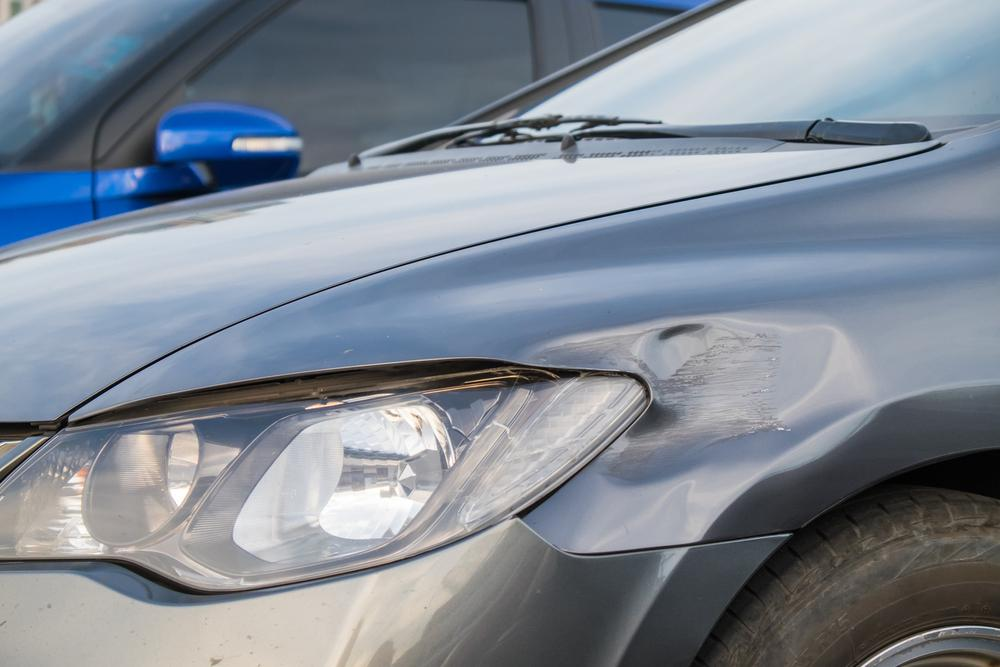dent: (538, 321, 876, 480)
